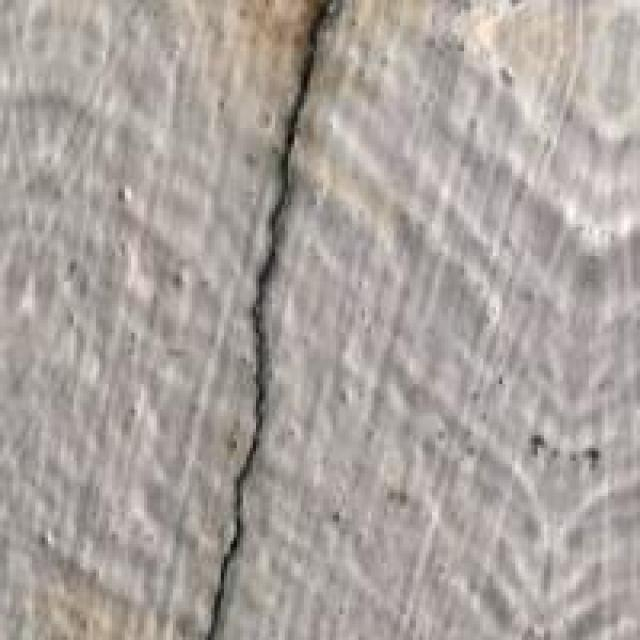Crack: (182, 0, 406, 637)
